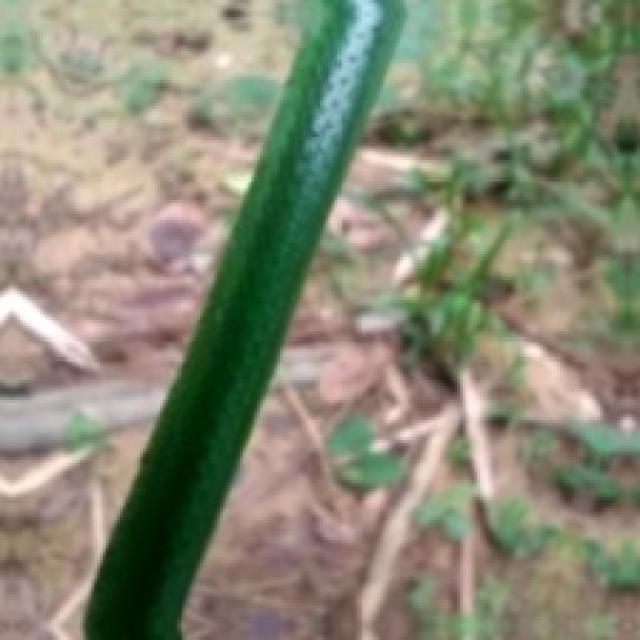red-tailed green ratsnake: (86, 0, 403, 637)
